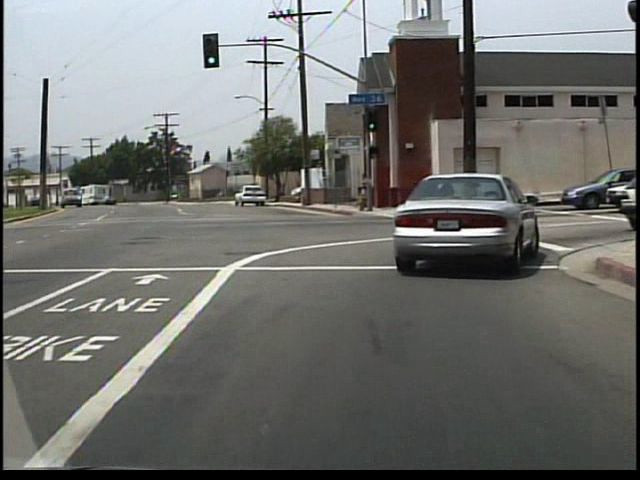person: (355, 173, 369, 212)
